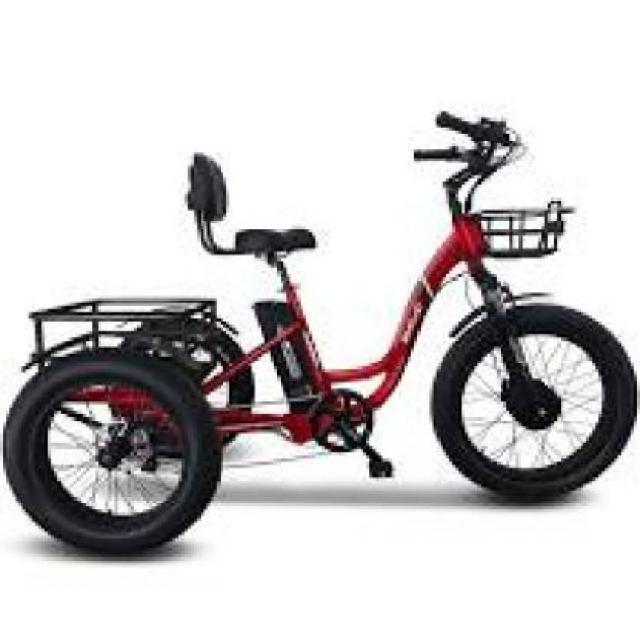bicycle: (4, 96, 640, 552)
